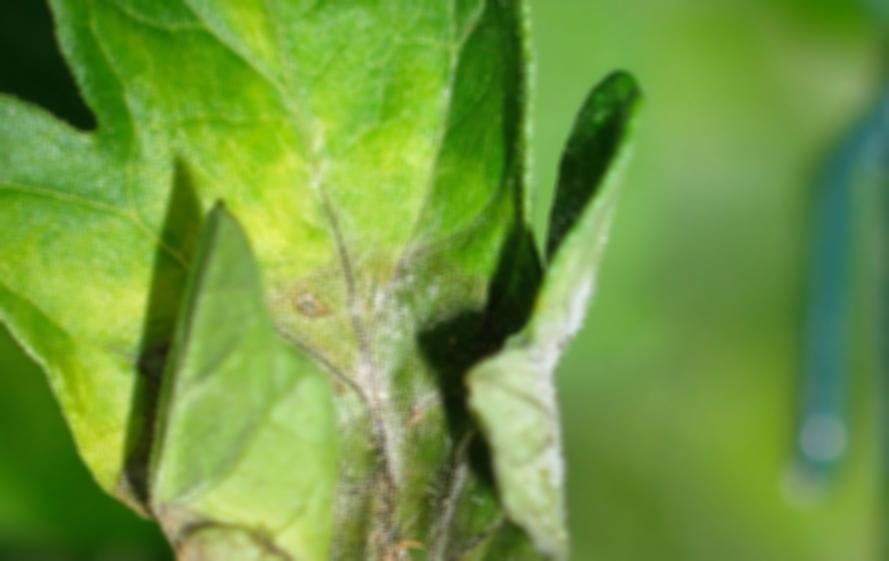Tomato leaf late blight: (0, 0, 635, 561)
